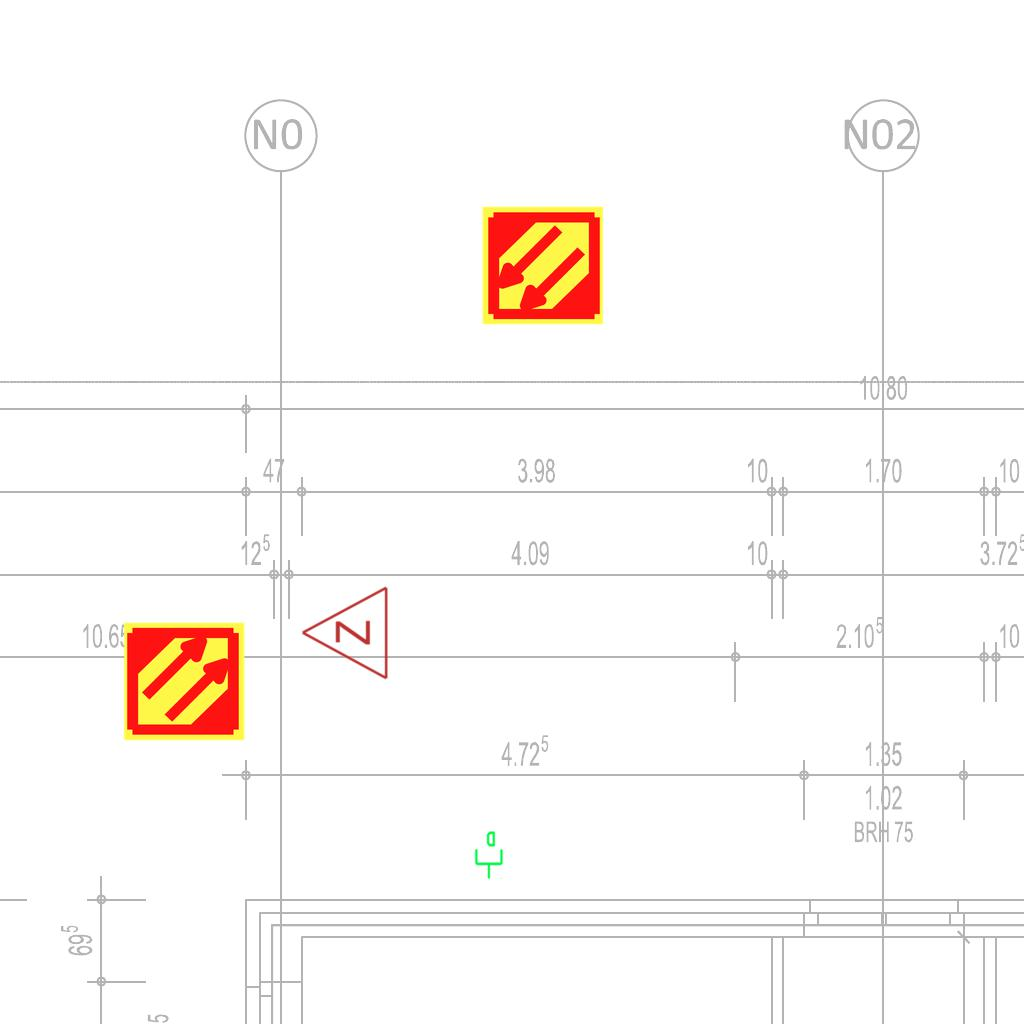ASR_Ansaugrauchmelder: (122, 619, 247, 744), (480, 203, 605, 328)
Datenanschluss_einfach: (471, 830, 505, 880)
Zimmersignalleuchte: (295, 585, 395, 683)
